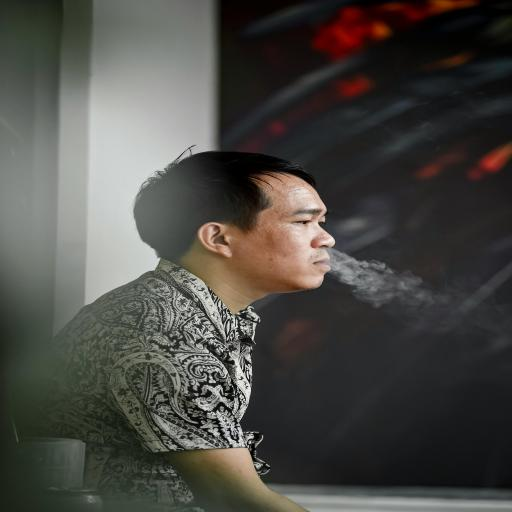asap rokok: (276, 212, 416, 321)
